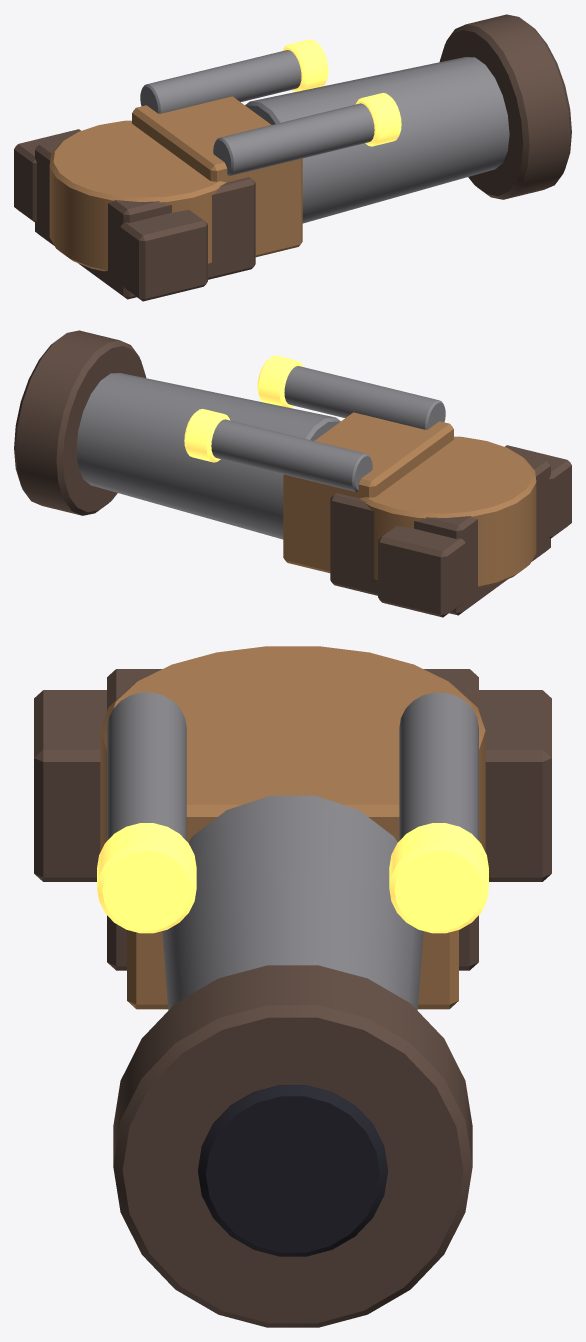
The model's file is cannon_turret_l2.glb.
The picture shows the model from 3 angles, top to bottom: view 1: azimuth 30°, elevation 25°; view 2: azimuth 150°, elevation 25°; view 3: azimuth 270°, elevation 25°; orthographic projection. The views are drawn at different scales.
Parts seen in each view (by area): view 1: Cone, Cylinder, Cylinder.001, Cube.001, Cube, Cube.002, Cylinder.003, Cylinder.005, Cube.003, Cylinder.004, Cylinder.006; view 2: Cone, Cylinder, Cylinder.001, Cube.001, Cube, Cube.003, Cylinder.005, Cylinder.003, Cube.002, Cylinder.006, Cylinder.004; view 3: Cylinder.001, Cone, Cylinder.002, Cube.001, Cylinder, Cube.002, Cube.003, Cylinder.003, Cylinder.005, Cylinder.004, Cylinder.006, Cube.
Part boxes in pixels (x1=…): Cone: x1=245, y1=57, x2=509, y2=223; Cylinder: x1=49, y1=120, x2=226, y2=271; Cylinder.001: x1=439, y1=14, x2=571, y2=199; Cube.001: x1=132, y1=96, x2=302, y2=257; Cube: x1=35, y1=137, x2=255, y2=299; Cube.002: x1=120, y1=210, x2=207, y2=301; Cylinder.003: x1=213, y1=103, x2=374, y2=175; Cylinder.005: x1=140, y1=50, x2=301, y2=113; Cube.003: x1=14, y1=129, x2=80, y2=222; Cylinder.004: x1=355, y1=93, x2=401, y2=146; Cylinder.006: x1=282, y1=39, x2=328, y2=91; Cone: x1=76, y1=373, x2=340, y2=539; Cylinder: x1=359, y1=436, x2=536, y2=587; Cylinder.001: x1=14, y1=330, x2=146, y2=515; Cube.001: x1=283, y1=412, x2=453, y2=573; Cube: x1=330, y1=453, x2=550, y2=615; Cube.003: x1=378, y1=526, x2=465, y2=617; Cylinder.005: x1=211, y1=419, x2=372, y2=491; Cylinder.003: x1=284, y1=366, x2=445, y2=429; Cube.002: x1=505, y1=445, x2=571, y2=538; Cylinder.006: x1=184, y1=409, x2=230, y2=462; Cylinder.004: x1=257, y1=355, x2=303, y2=407; Cylinder.001: x1=113, y1=965, x2=472, y2=1327; Cone: x1=162, y1=795, x2=423, y2=1010; Cylinder.002: x1=198, y1=1085, x2=387, y2=1256; Cube.001: x1=127, y1=722, x2=458, y2=1009; Cylinder: x1=100, y1=646, x2=485, y2=851; Cube.002: x1=34, y1=690, x2=106, y2=881; Cube.003: x1=479, y1=690, x2=551, y2=881; Cylinder.003: x1=107, y1=692, x2=186, y2=840; Cylinder.005: x1=399, y1=692, x2=478, y2=840; Cylinder.004: x1=97, y1=823, x2=196, y2=933; Cylinder.006: x1=389, y1=823, x2=488, y2=933; Cube: x1=107, y1=669, x2=478, y2=970.
Size of the model in its own units: 1.64 by 0.5358 by 0.78.
